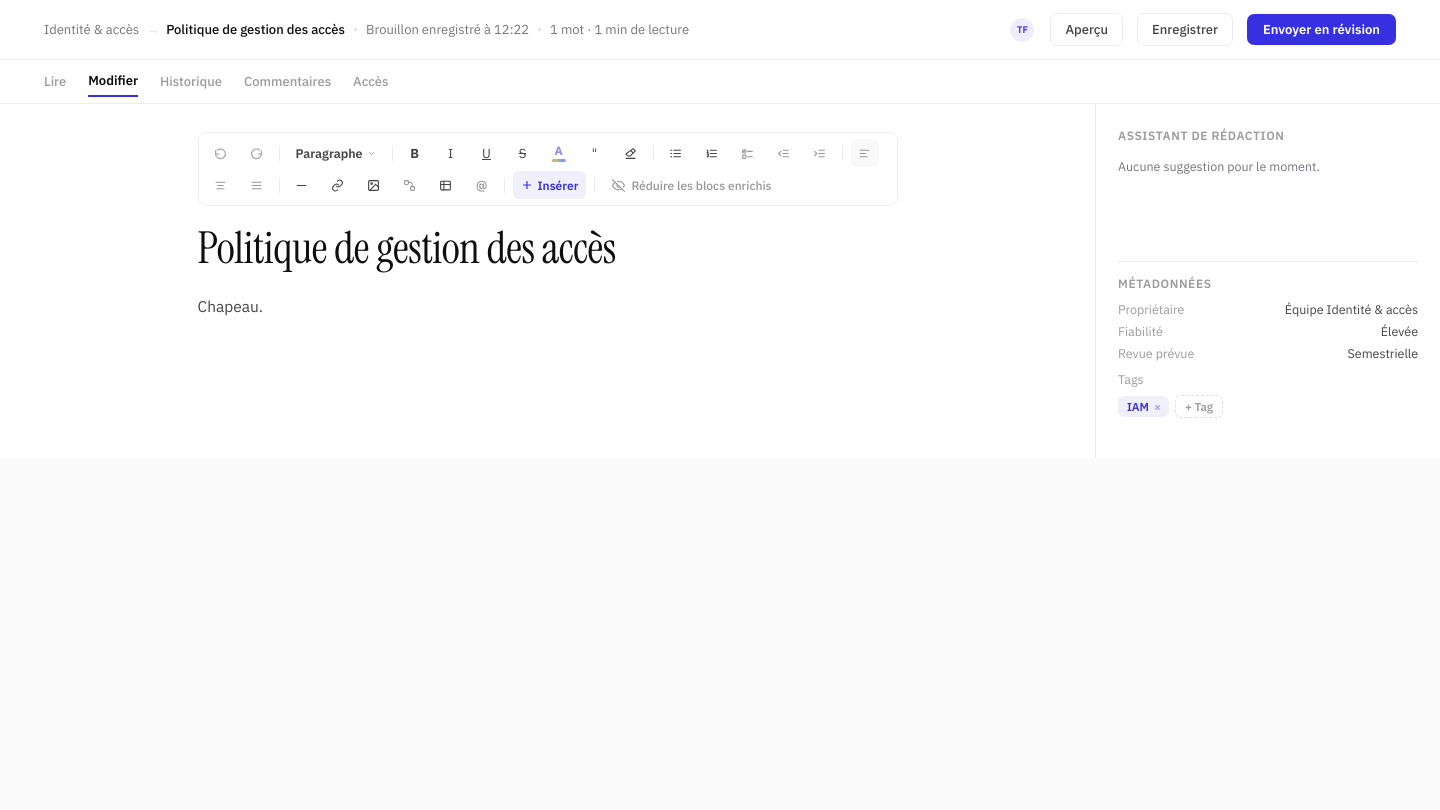
Test: DocumentEditPage — envoi en révision › POST /approvals puis confirme
The width and height of the screenshot is (1440, 810).
Click the button with test id "edit-send-review": (1322, 30) x1=1247 y1=14 x2=1396 y2=45
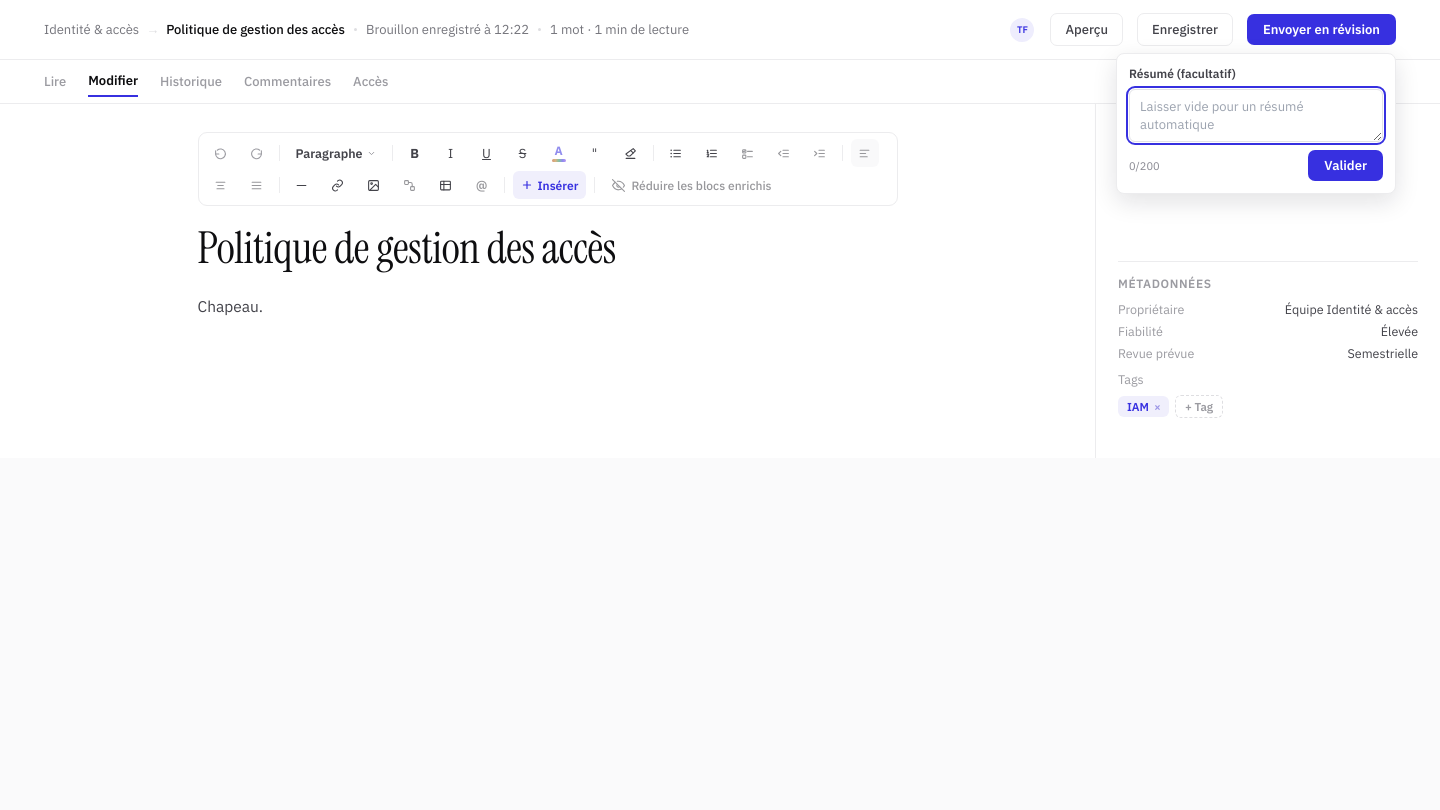
Click the button with test id "edit-send-review-confirm": (1346, 166) x1=1308 y1=150 x2=1383 y2=181
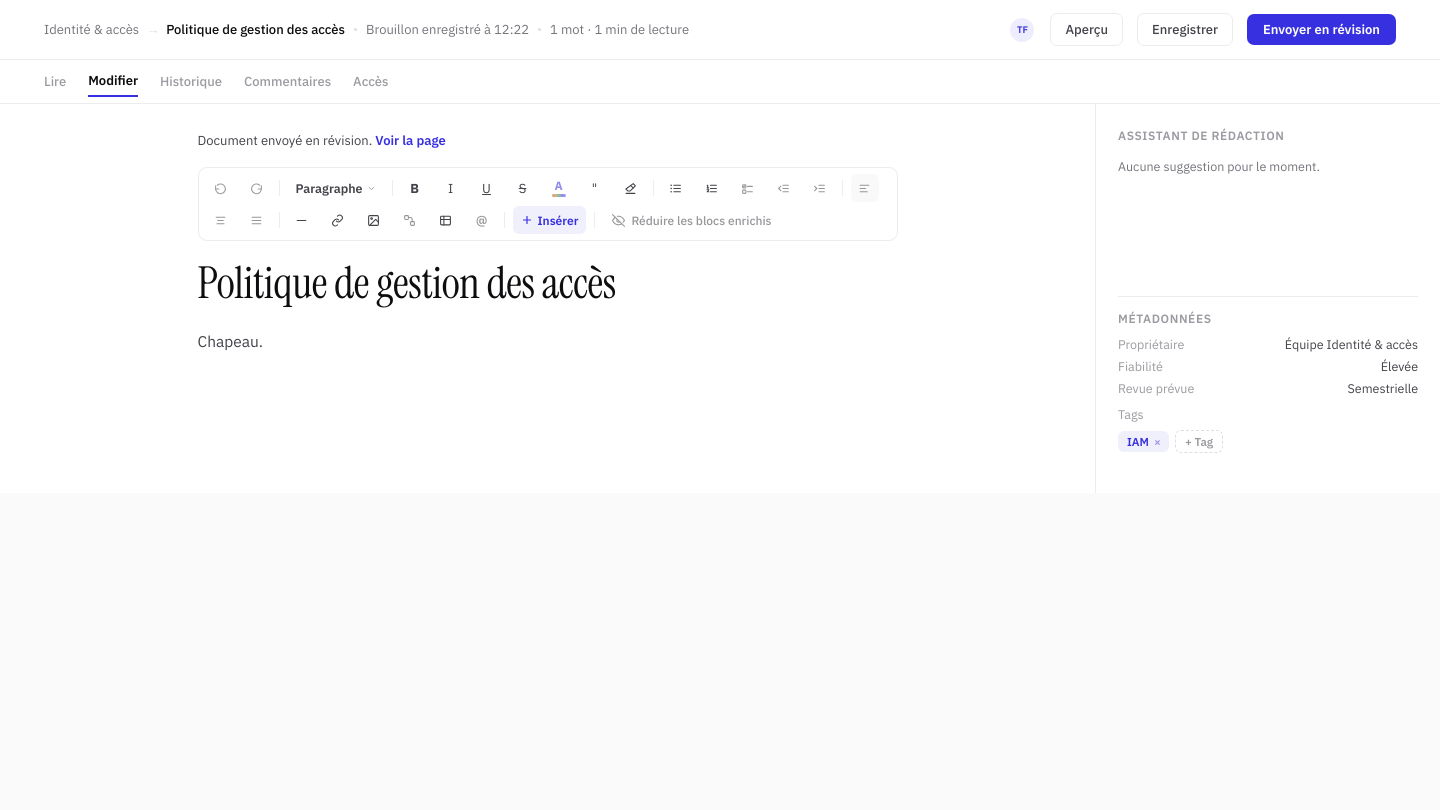
Expected: the message "Document envoyé en révision. Voir la page" is shown, x1=198 y1=132 x2=446 y2=149
